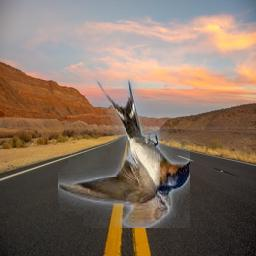Swallow: (58, 76, 190, 229)
